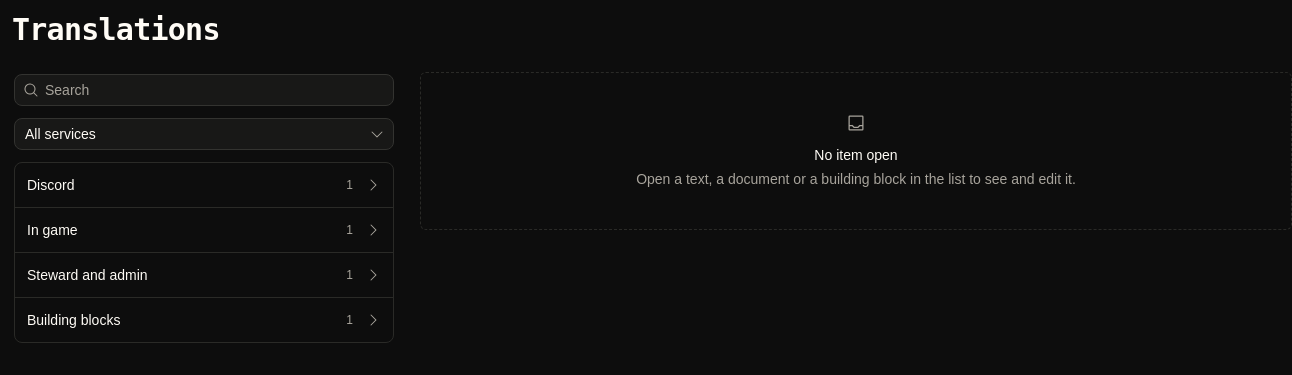
Test: the groups › lists what the server's search finds, in every group at once
In the search field named "Search the texts": (216, 90) top-left (39, 75), bottom-right (393, 105), type "titel"
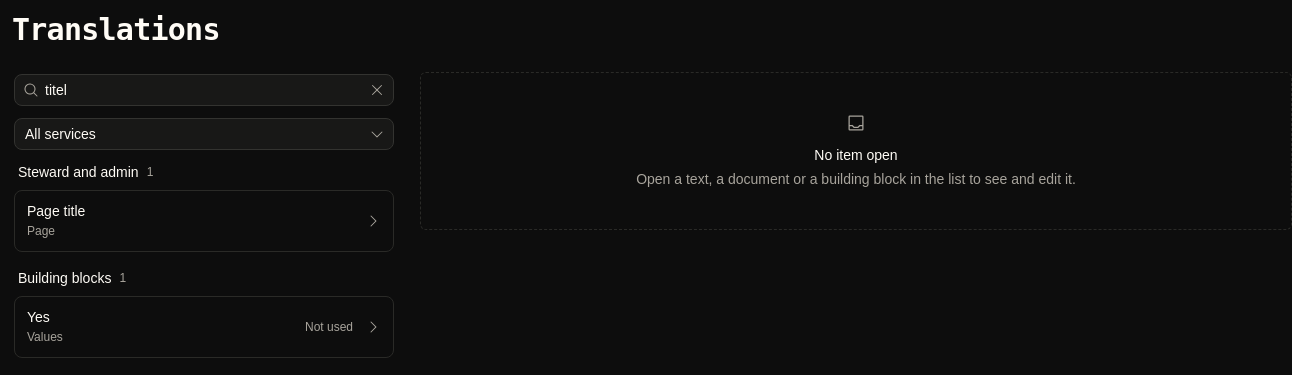
expect the button "Page title Page" is shown: met, box top-left (15, 191), bottom-right (393, 251)
expect the button "Yes Values Not used" is shown: met, box top-left (15, 297), bottom-right (393, 357)
